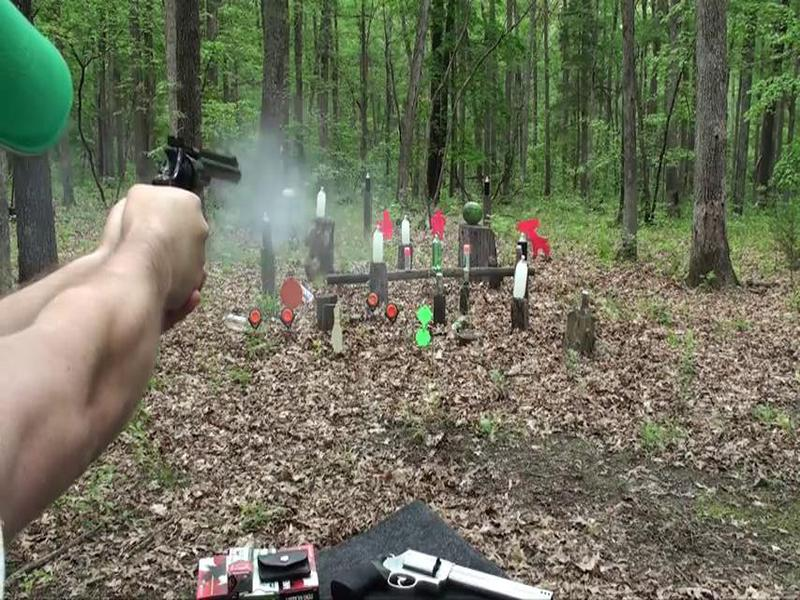Revolver: (132, 129, 252, 214)
